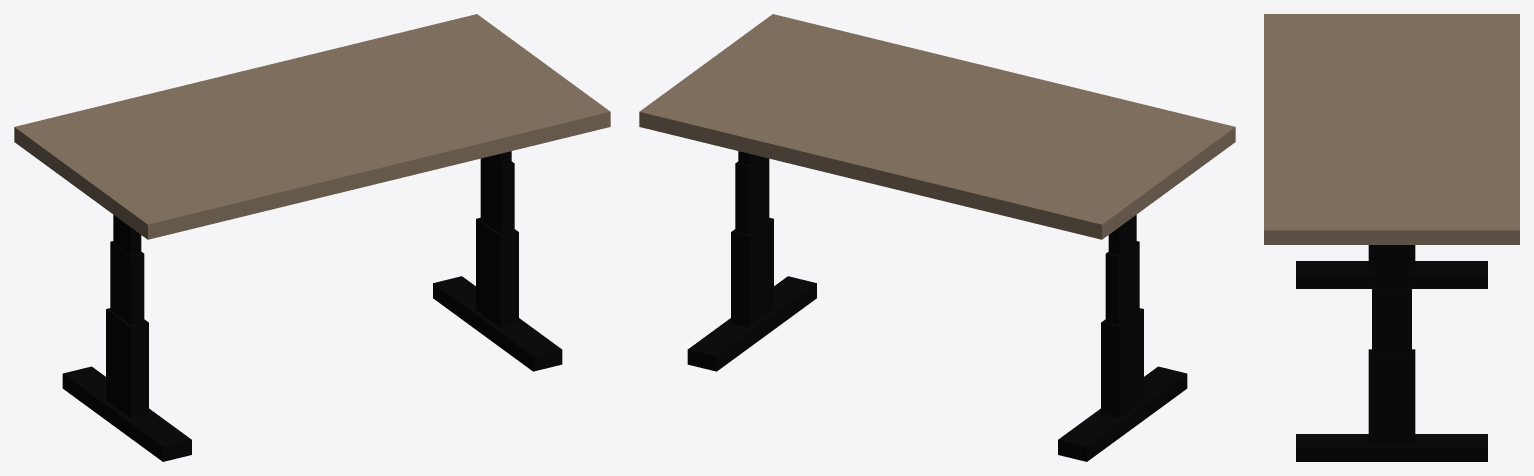
File: StandingDeskHighEmpty.glb
3 renders of one model, left to right at view 1: azimuth 30°, elevation 25°; view 2: azimuth 150°, elevation 25°; view 3: azimuth 270°, elevation 25°, orthographic. The views are drawn at different scales.
Visible parts, largest first — view 1: StandingDesk-col; view 2: StandingDesk-col; view 3: StandingDesk-col.
Boxes of the visible parts, left/top/right/bottom form: StandingDesk-col: left=14, top=14, right=610, bottom=461; StandingDesk-col: left=639, top=14, right=1235, bottom=461; StandingDesk-col: left=1264, top=14, right=1519, bottom=461.
Size of the model in its own units: 6.4 by 3.4 by 3.2.
1 material, 1 textured.
